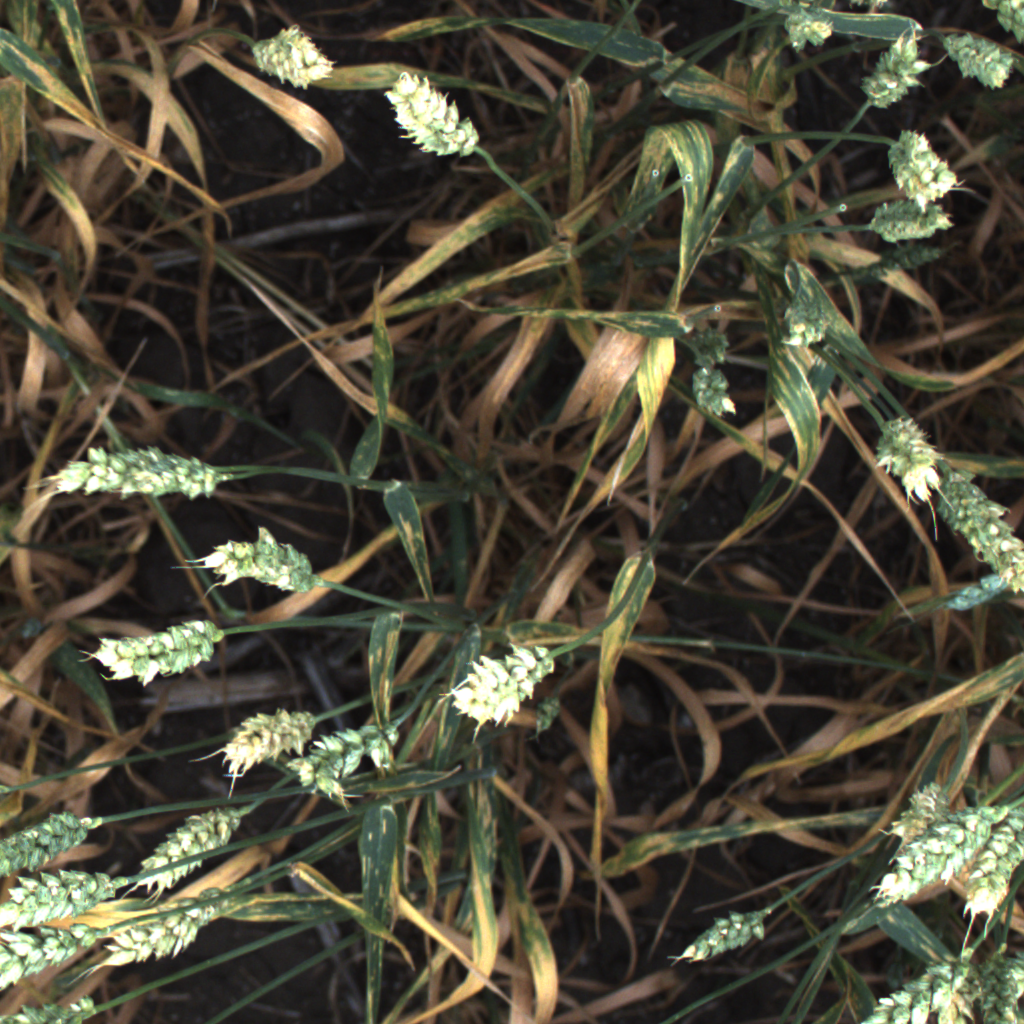wheat_head: (863, 785, 1016, 912), (930, 443, 1024, 605), (96, 883, 264, 971), (84, 604, 234, 690), (40, 439, 232, 505), (278, 705, 412, 799), (136, 794, 253, 898), (437, 637, 560, 732), (205, 690, 325, 786), (181, 521, 332, 597), (374, 67, 488, 164), (0, 913, 128, 997), (842, 944, 974, 1024), (0, 863, 140, 935), (0, 794, 108, 879), (953, 793, 1024, 918), (858, 20, 938, 119), (667, 903, 781, 971), (869, 407, 941, 510), (246, 21, 345, 91), (872, 130, 961, 207), (939, 23, 1022, 96), (676, 354, 750, 426), (883, 773, 943, 842), (935, 940, 982, 1024), (859, 208, 953, 248), (778, 2, 845, 54), (1, 1000, 110, 1024), (990, 0, 1024, 50)
